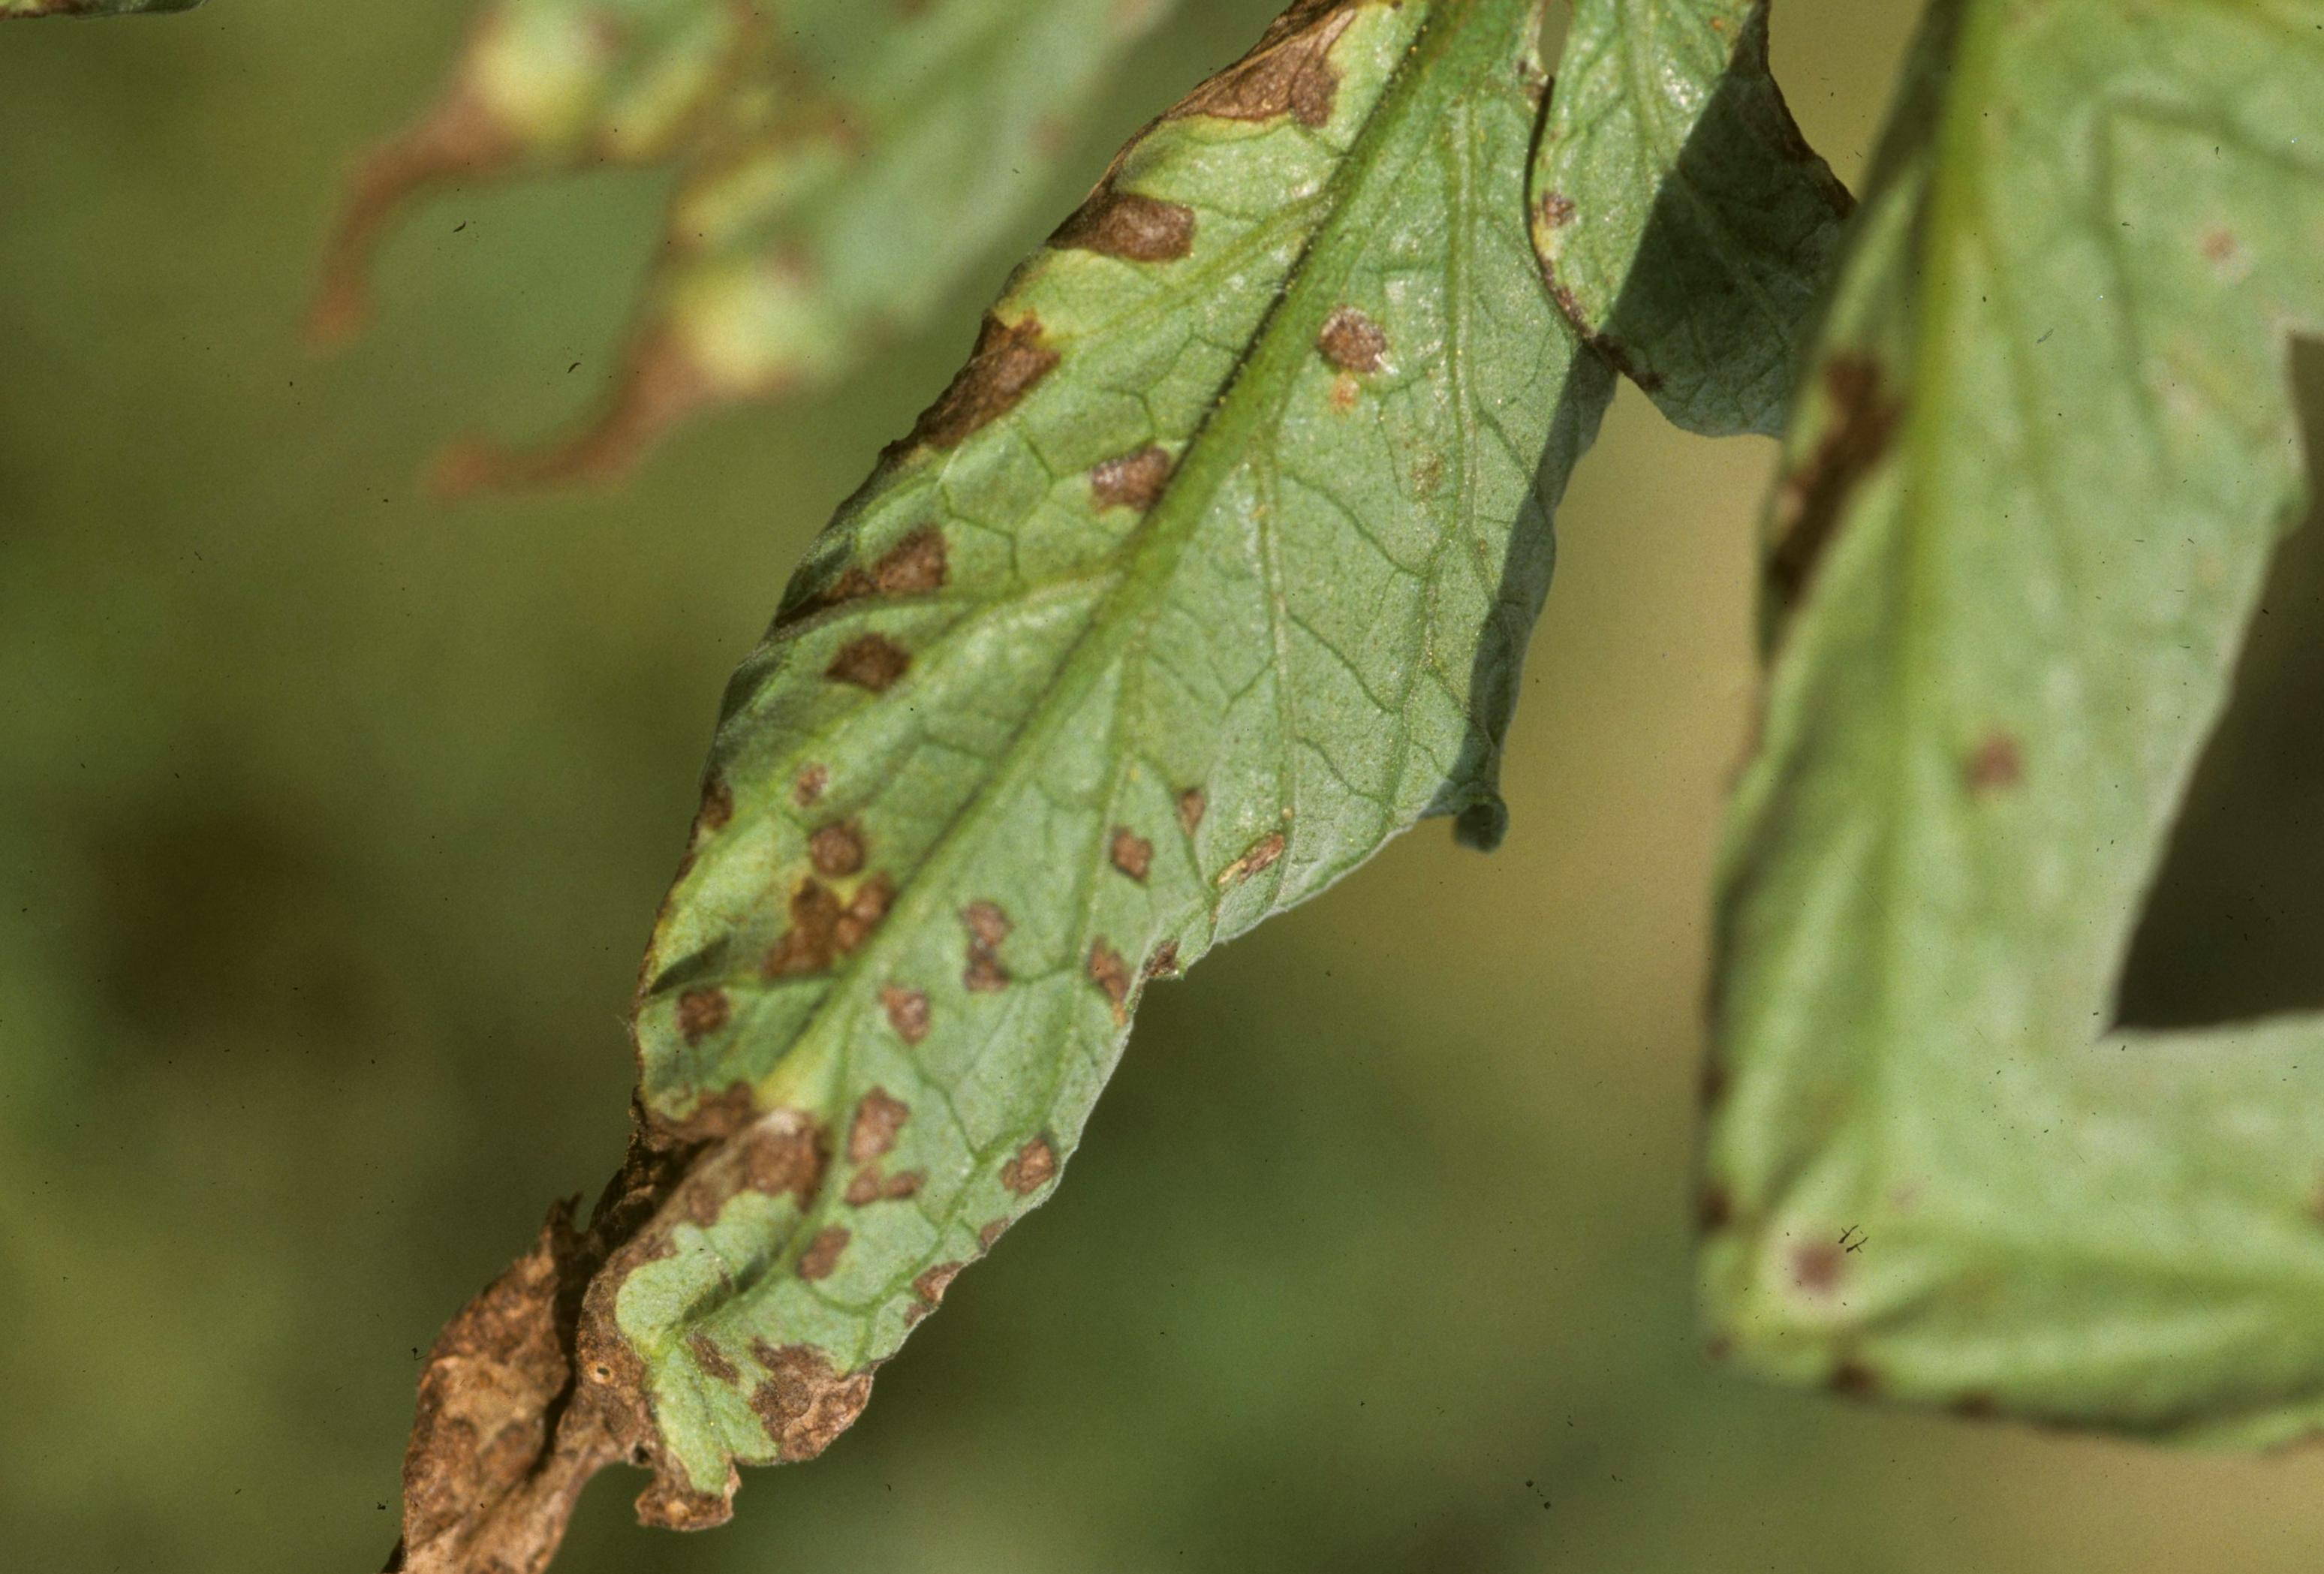Tomato leaf bacterial spot: (0, 0, 2126, 1574)
